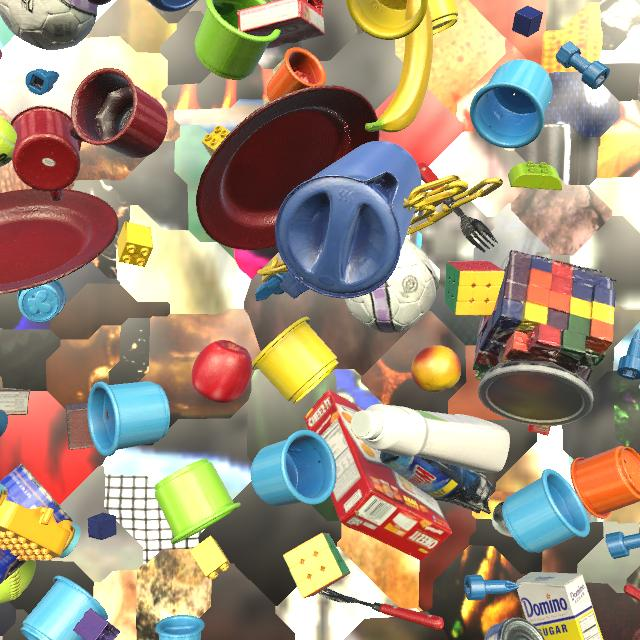ycb_002_master_chef_can: (0, 463, 73, 584)
ycb_003_cracker_box: (304, 389, 452, 561)
ycb_004_sugar_box: (516, 572, 603, 640)
ycb_007_tuna_fish_can: (484, 617, 545, 640)
ycb_008_pudding_box: (0, 388, 30, 415)
ycb_009_gelatin_box: (237, 0, 325, 49), (528, 424, 551, 436)
ycb_011_banana: (365, 0, 433, 133)
ycb_013_apple: (191, 340, 252, 403)
ycb_015_peach: (411, 345, 461, 393)
ycb_018_plum: (88, 0, 111, 5)
